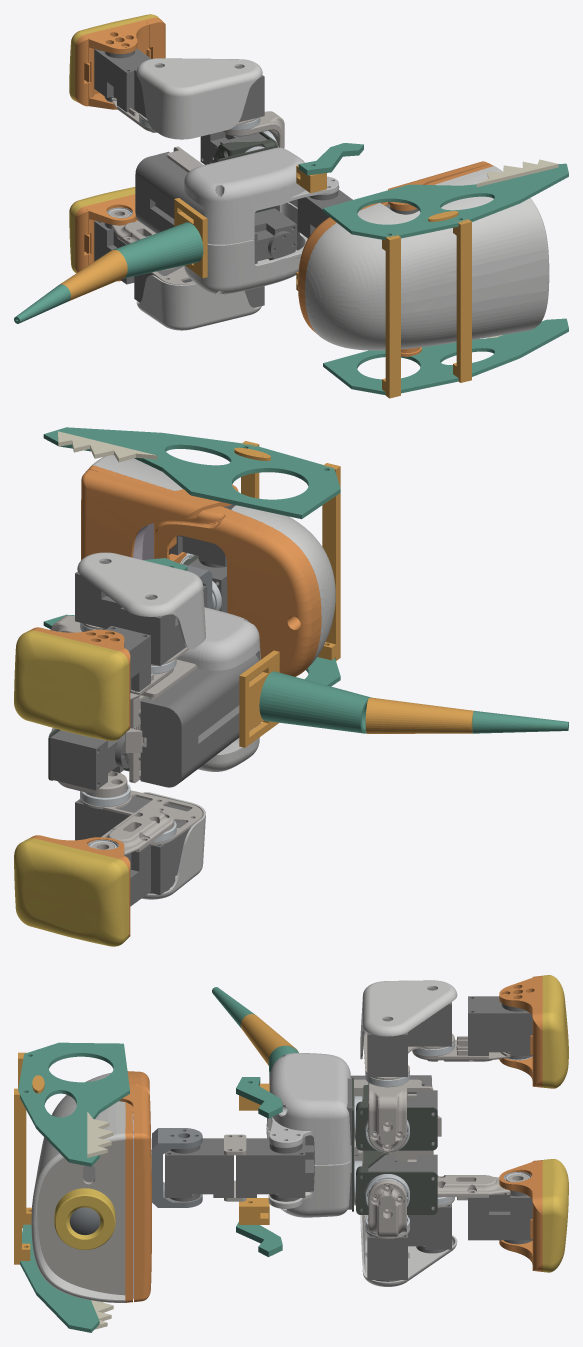
Rendered from micro_rex.glb.
The picture shows the model from 3 angles, top to bottom: view 1: azimuth 30°, elevation 25°; view 2: azimuth 150°, elevation 25°; view 3: azimuth 270°, elevation 25°; orthographic projection. The views are drawn at different scales.
Visible parts, largest first — view 1: stock_45, stock_17, stock_9, skull_cheek_left, skull_cheek_right, stock_1, stock_65, stock_7, tail_segment_1, head_bridge_1, head_bridge_2, stock_24 (+22 smaller); view 2: stock_52, stock_25, stock_71, skull_cheek_left, stock_7, stock_51, stock_17, tail_segment_1, stock_45, stock_57, tail_segment_2, stock_9 (+19 smaller); view 3: stock_41, stock_9, skull_cheek_left, stock_17, stock_51, stock_31, stock_32, stock_45, stock_24, stock_67, stock_71, stock_25 (+34 smaller).
Part boxes in pixels (left/top/right/bottom): stock_45: left=305, top=166, right=549, bottom=350; stock_17: left=136, top=58, right=262, bottom=139; stock_9: left=183, top=147, right=339, bottom=244; skull_cheek_left: left=323, top=163, right=568, bottom=240; skull_cheek_right: left=323, top=318, right=568, bottom=394; stock_1: left=184, top=202, right=307, bottom=294; stock_65: left=136, top=275, right=261, bottom=330; stock_7: left=135, top=151, right=204, bottom=233; tail_segment_1: left=113, top=222, right=203, bottom=278; head_bridge_1: left=382, top=235, right=400, bottom=398; head_bridge_2: left=453, top=219, right=471, bottom=382; stock_24: left=94, top=48, right=150, bottom=112; stock_52: left=88, top=465, right=321, bottom=676; stock_25: left=14, top=630, right=128, bottom=740; stock_71: left=14, top=838, right=128, bottom=946; skull_cheek_left: left=43, top=427, right=340, bottom=519; stock_7: left=140, top=654, right=260, bottom=787; stock_51: left=81, top=469, right=238, bottom=559; stock_17: left=77, top=552, right=205, bottom=649; tail_segment_1: left=259, top=671, right=370, bottom=733; stock_45: left=92, top=455, right=335, bottom=668; stock_57: left=50, top=730, right=129, bottom=790; tail_segment_2: left=365, top=697, right=473, bottom=733; stock_9: left=176, top=607, right=261, bottom=673; stock_41: left=38, top=1140, right=125, bottom=1295; stock_9: left=266, top=1053, right=351, bottom=1164; skull_cheek_left: left=18, top=1042, right=129, bottom=1166; stock_17: left=360, top=980, right=457, bottom=1059; stock_51: left=119, top=1084, right=151, bottom=1301; stock_31: left=236, top=1138, right=305, bottom=1201; stock_32: left=165, top=1138, right=233, bottom=1201; stock_45: left=31, top=1072, right=125, bottom=1302; stock_24: left=468, top=996, right=532, bottom=1059; stock_67: left=468, top=1190, right=532, bottom=1244; stock_71: left=542, top=1159, right=568, bottom=1272; stock_25: left=542, top=975, right=568, bottom=1088.
Bounding box in the file's own units: 0.2998 × 0.141 × 0.2725.
